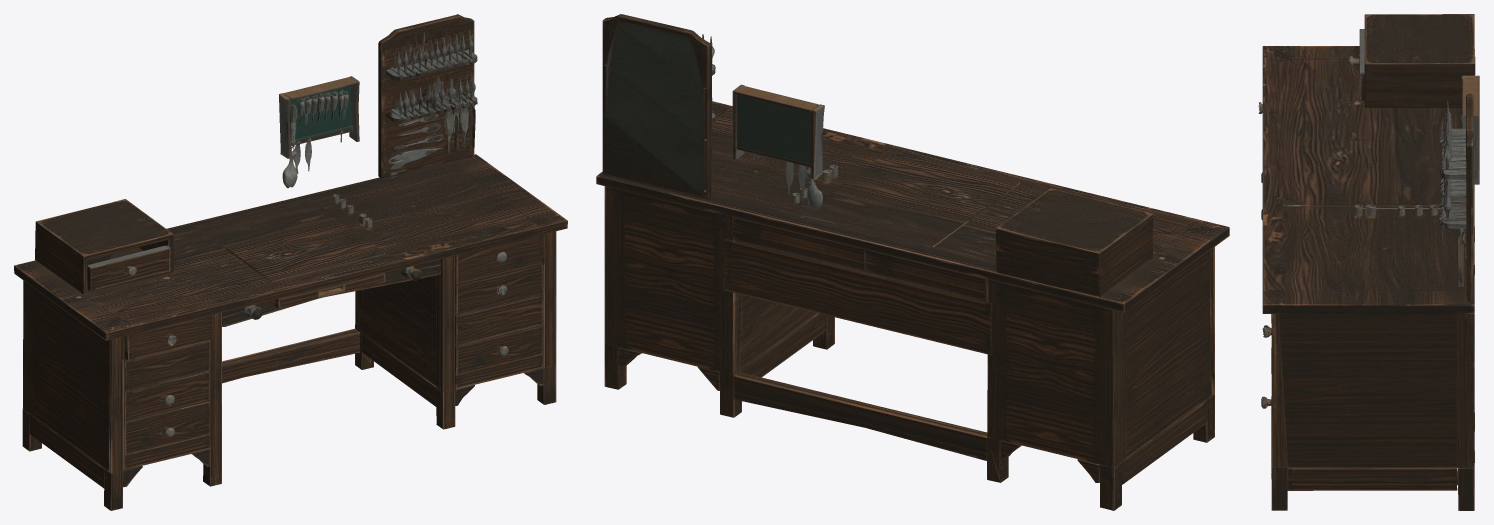
File: workbench.glb
3 renders of one model, left to right at view 1: azimuth 30°, elevation 25°; view 2: azimuth 150°, elevation 25°; view 3: azimuth 270°, elevation 25°, orthographic. The views are drawn at different scales.
Bounding box in the file's own units: 1.7 × 1.15 × 0.6134.
1 material, 1 textured.
